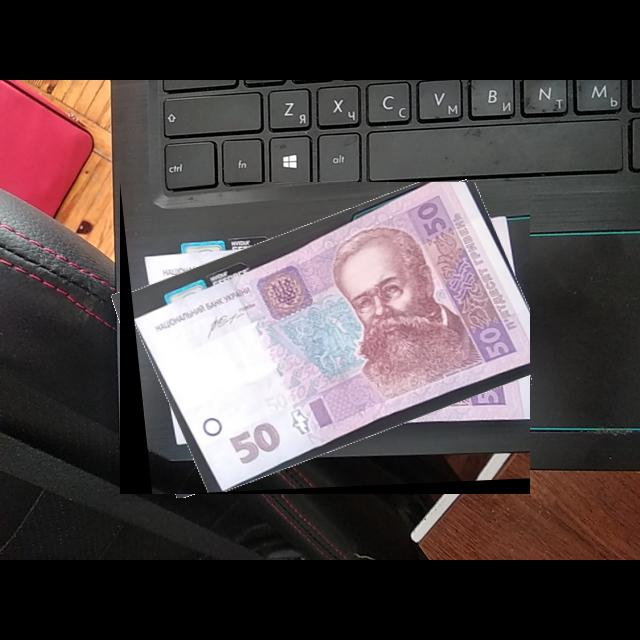50uah: (132, 182, 531, 493)
